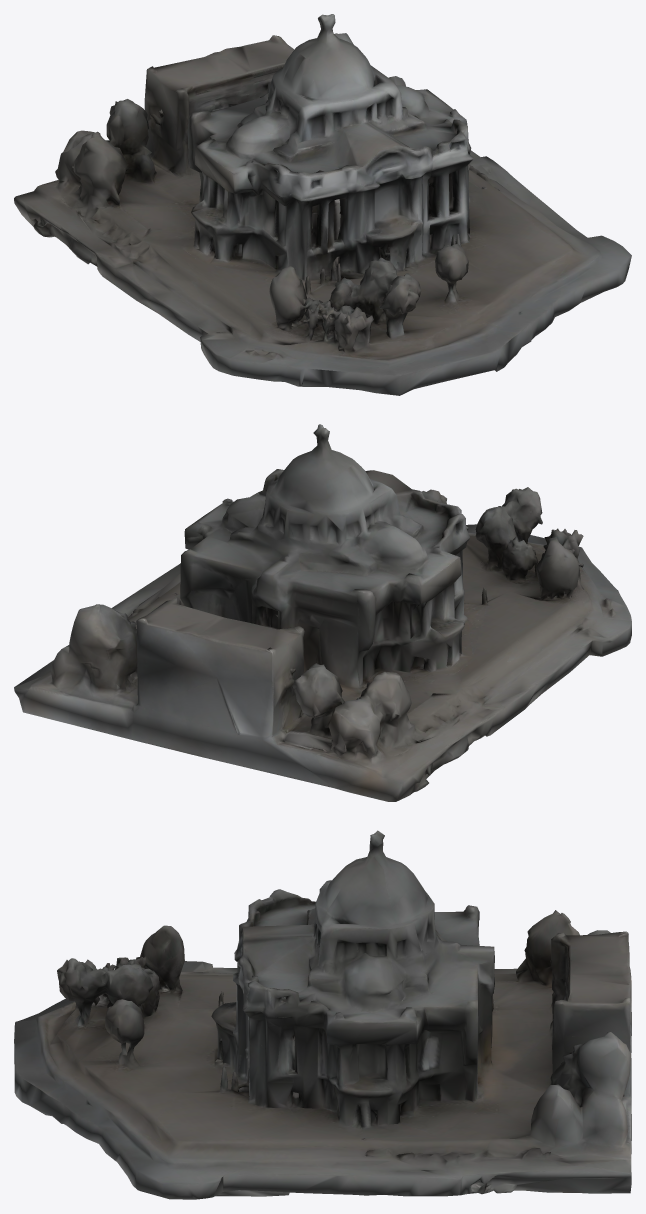
Rendered from landmark-bellasartes.glb.
3 views of the same model, one above another, from view 1: azimuth 30°, elevation 25°; view 2: azimuth 150°, elevation 25°; view 3: azimuth 270°, elevation 25° (orthographic). The views are drawn at different scales.
Size of the model in its own units: 1.7 by 0.9517 by 2.
Materials: 1 (1 with a texture image).
